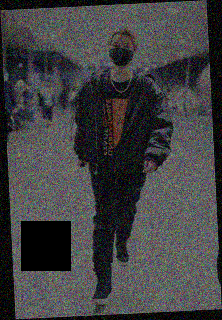with_mask: (108, 39, 134, 67)
